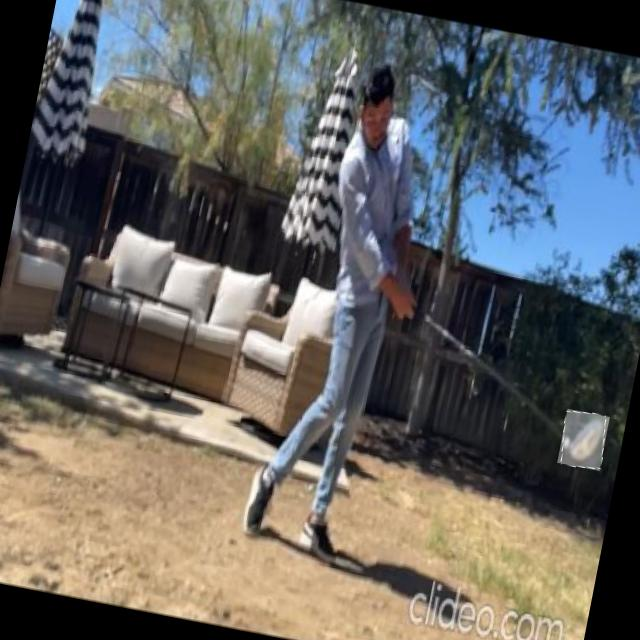club head: (557, 409, 610, 471)
